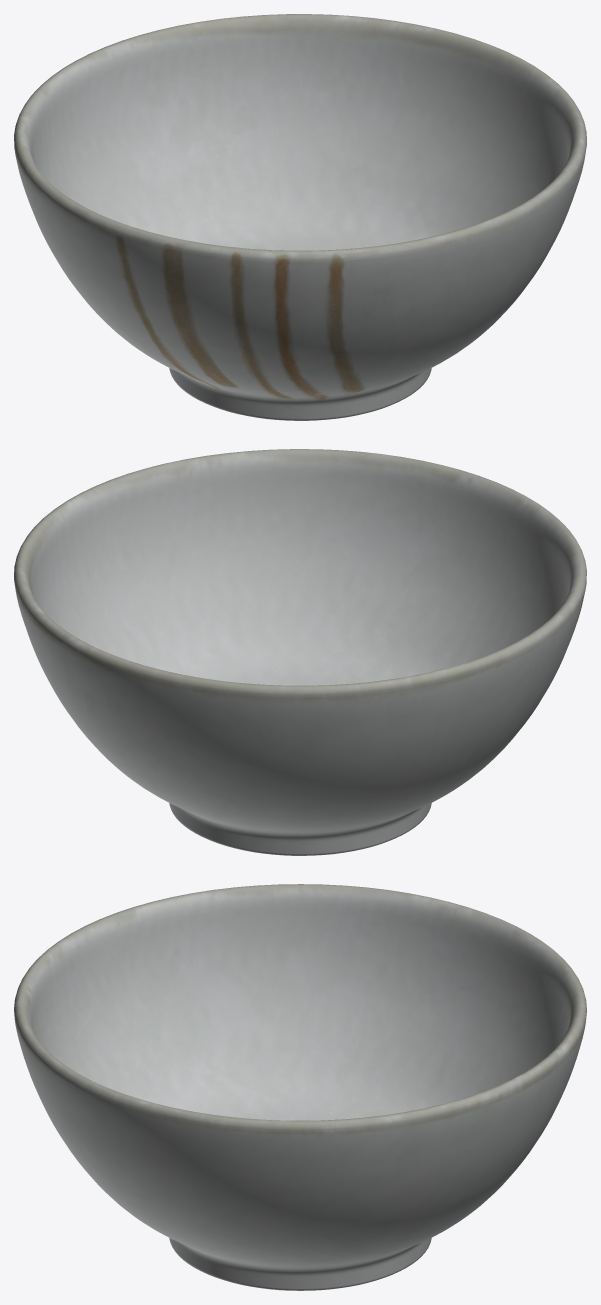
Rendered from B075HWDSDK.glb.
3 renders of one model, top to bottom at view 1: azimuth 30°, elevation 25°; view 2: azimuth 150°, elevation 25°; view 3: azimuth 270°, elevation 25°, orthographic.
Parts seen in each view (by area): view 1: RootNode; view 2: RootNode; view 3: RootNode.
Part boxes in pixels (x1,y1,x2,y2): RootNode: (14, 14, 586, 420); RootNode: (14, 449, 586, 855); RootNode: (14, 884, 586, 1290).
Size of the model in its own units: 0.268 by 0.121 by 0.268.
Materials: 1 (1 with a texture image).
